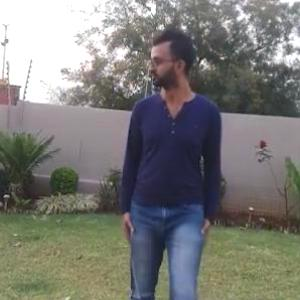follow: (108, 23, 224, 275)
